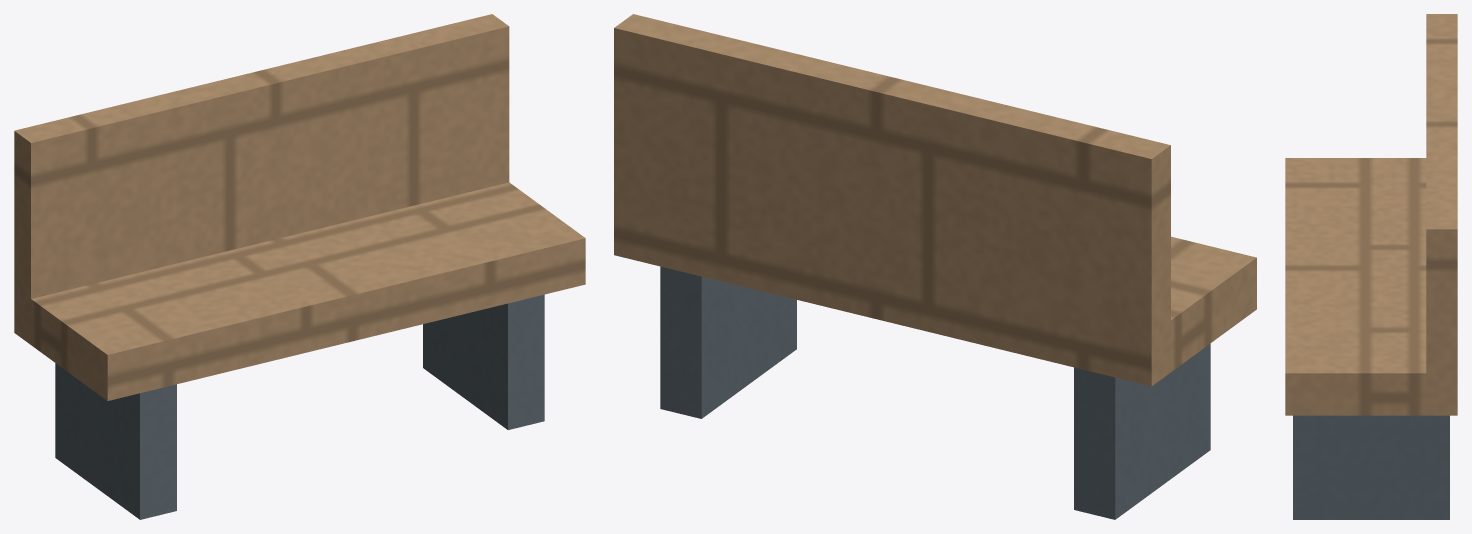
Rendered from city-bench.glb.
The picture shows the model from 3 angles, left to right: view 1: azimuth 30°, elevation 25°; view 2: azimuth 150°, elevation 25°; view 3: azimuth 270°, elevation 25°; orthographic projection. The views are drawn at different scales.
Size of the model in its own units: 1.3 by 0.865 by 0.44.
Materials: 2 (2 with a texture image).
